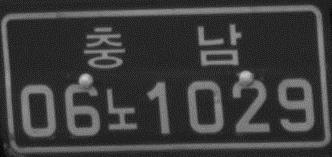0: (19, 81, 58, 139), (185, 78, 225, 134)
1: (143, 79, 173, 136)
2: (229, 76, 272, 135)
6: (62, 81, 101, 139)
9: (277, 76, 317, 132)
노: (103, 85, 139, 134)
충남_D: (82, 19, 242, 71)
